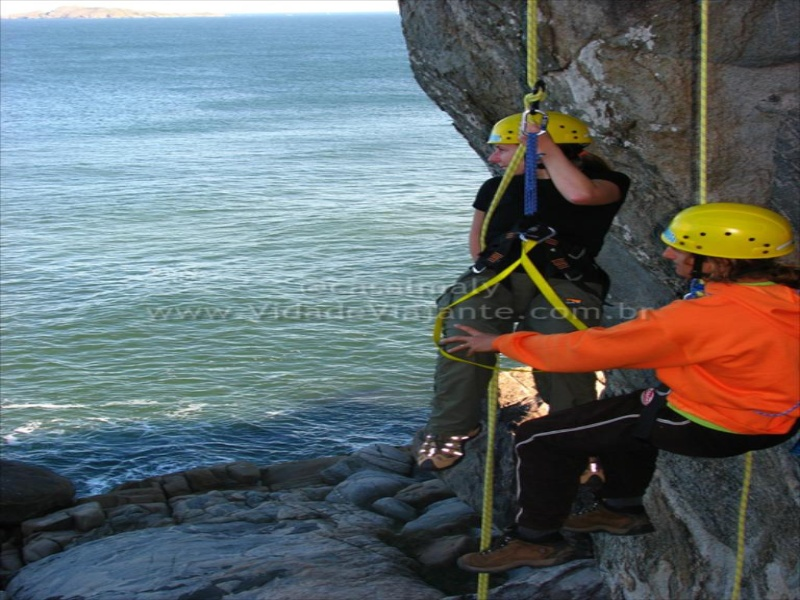Baret: (663, 202, 794, 259), (488, 108, 592, 145)
